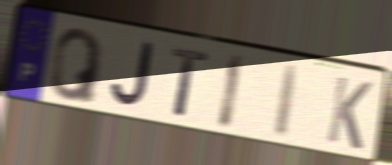I: (271, 62, 304, 142), (216, 51, 247, 134)
J: (108, 40, 155, 112)
K: (324, 73, 375, 154)
Q: (47, 27, 106, 107)
T: (170, 44, 211, 122)
